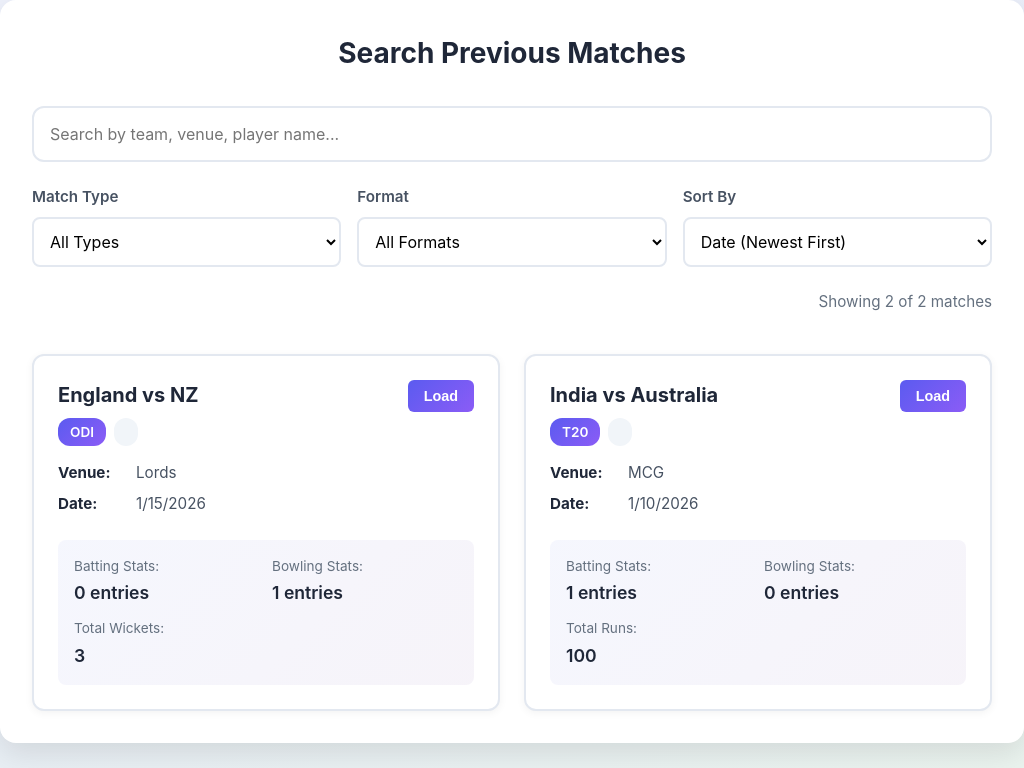
Scenario: SearchMatches search filtering › filters matches by team name
The image size is (1024, 768).
Expected: the heading "India vs Australia" is shown, [550,380,718,410]
Type "India" into the field with placeholder "Search by team, venue, player name...". click: point(512, 134)
box: [32,106,992,162]
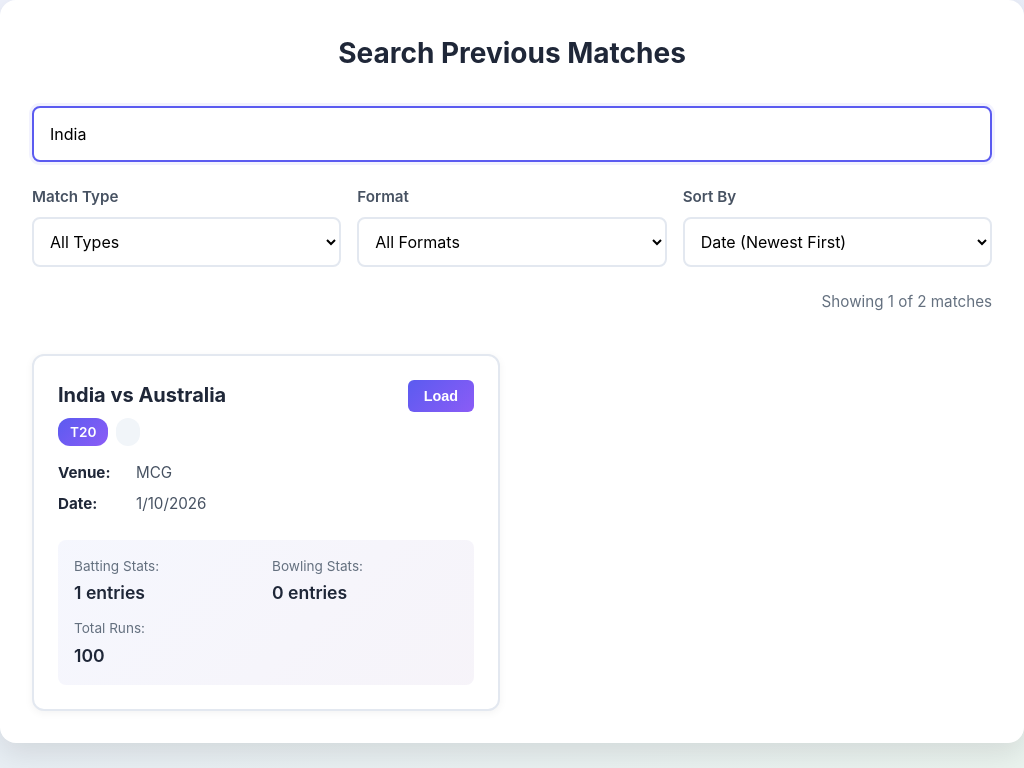
Expected: the heading "India vs Australia" is shown, [58,380,226,410]
Expected: the heading "England vs NZ" is gone
